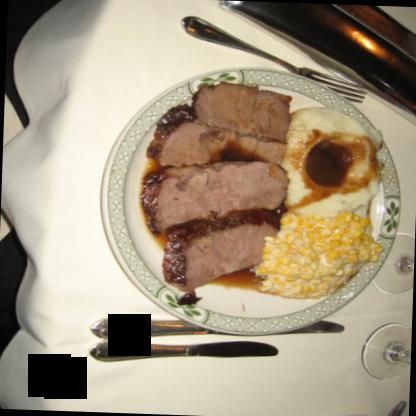beef: (145, 156, 294, 235), (161, 209, 282, 295), (142, 111, 292, 176), (186, 88, 295, 142)
